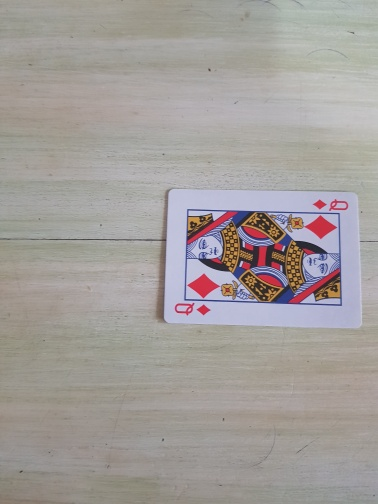queen: (161, 188, 364, 330)
